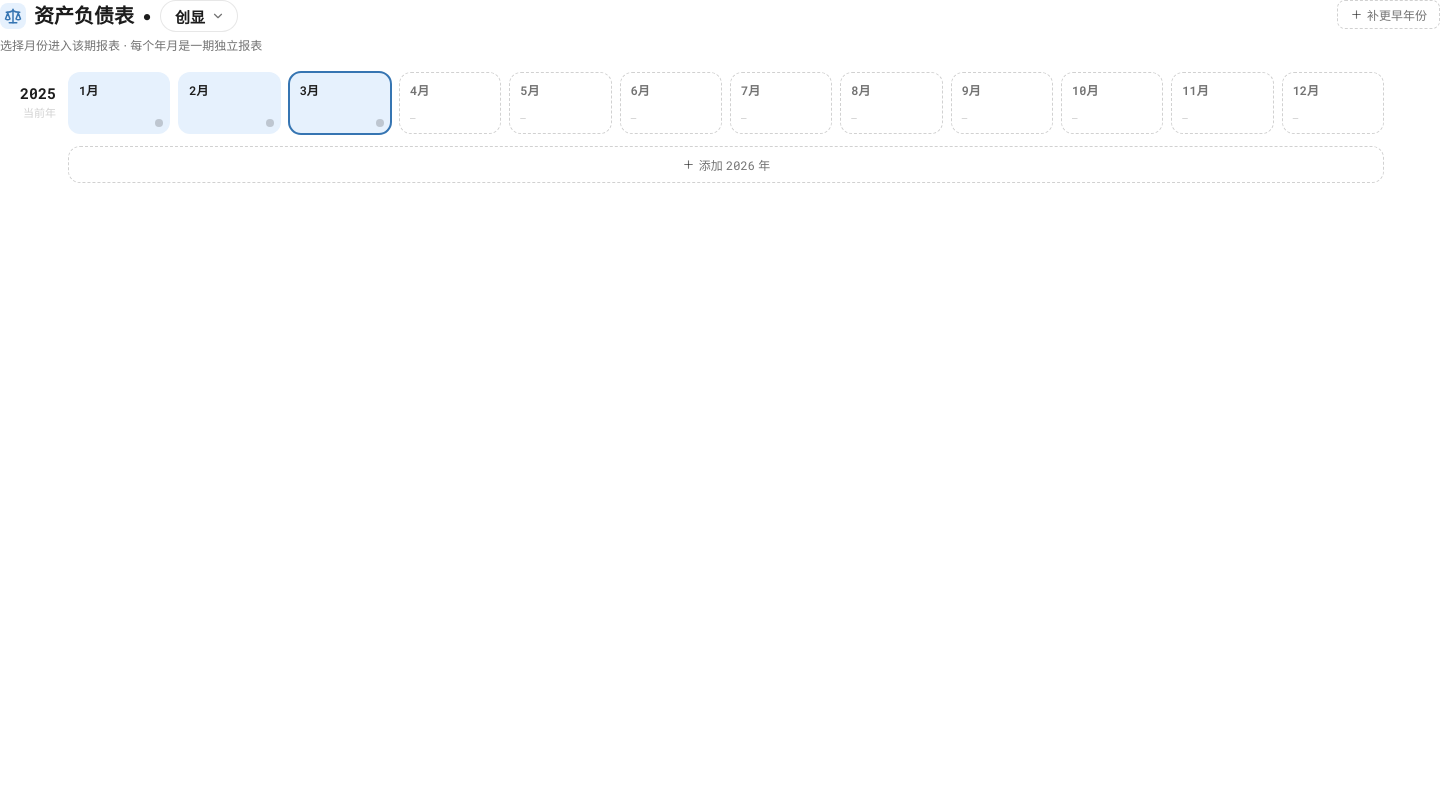
Scenario: 资产负债表 · 期间条 / 公司下拉 / 撤掉的东西 › ❗全部汇总:标题旁「3 家合计 · 只读」,按钮只剩「导出 Excel」,步骤条只剩三大报表三步
Click the button with class "bmm-card" showing "1月": (119, 103) [68,72,170,134]
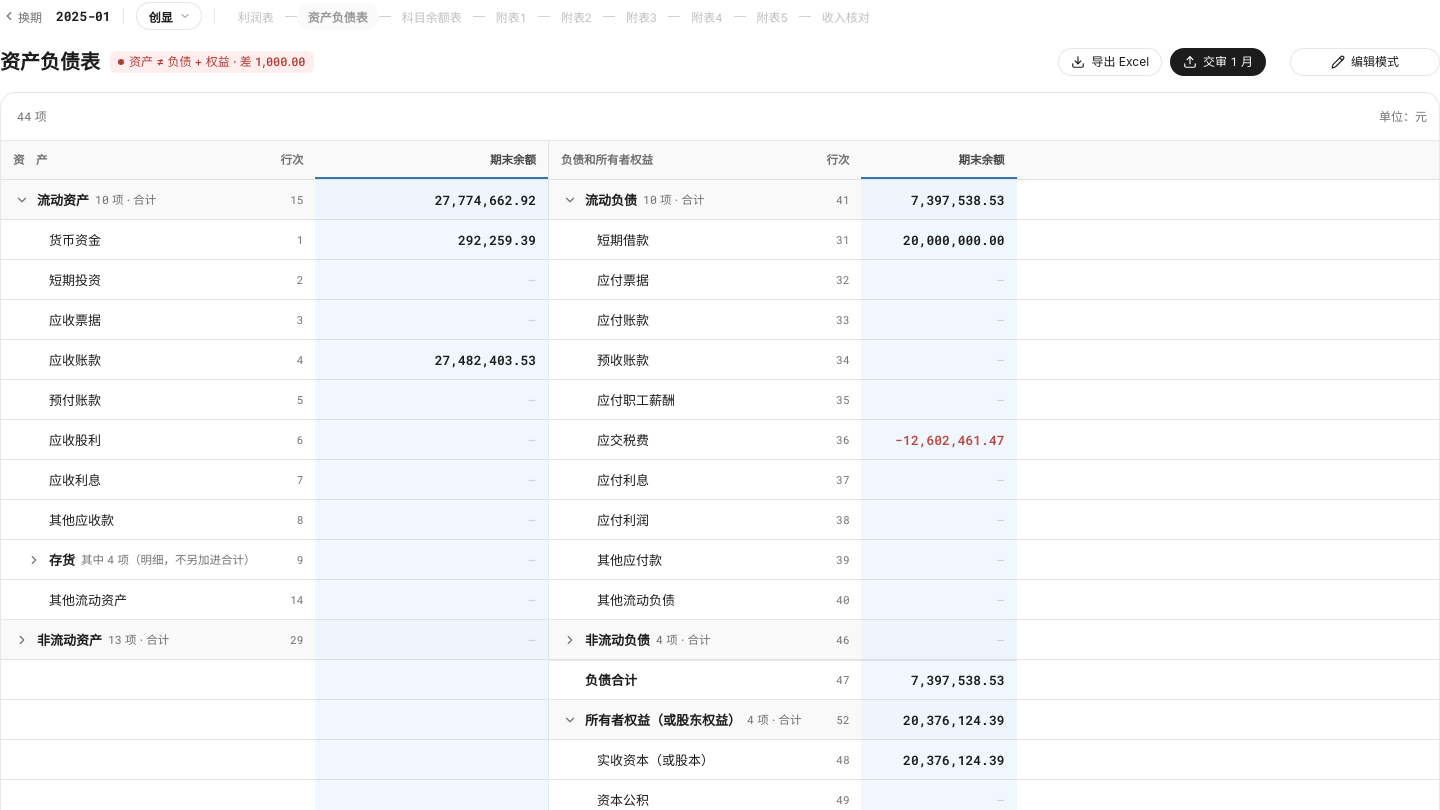
Click the button with class "fcm-btn": (169, 16) [136,2,202,30]
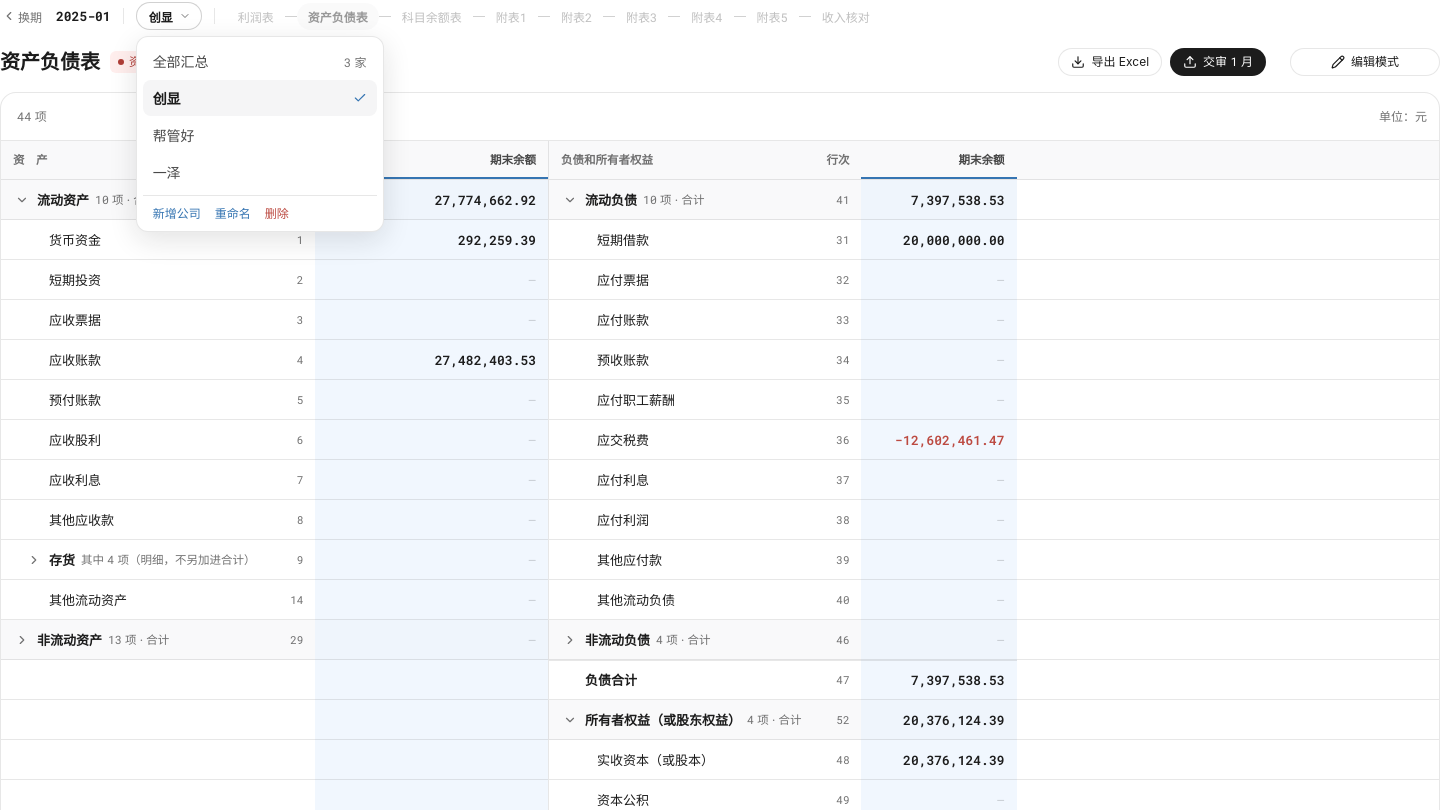
Click the menu item with class "fcm-it" showing "全部汇总 3 家": (260, 61) [143,43,377,79]
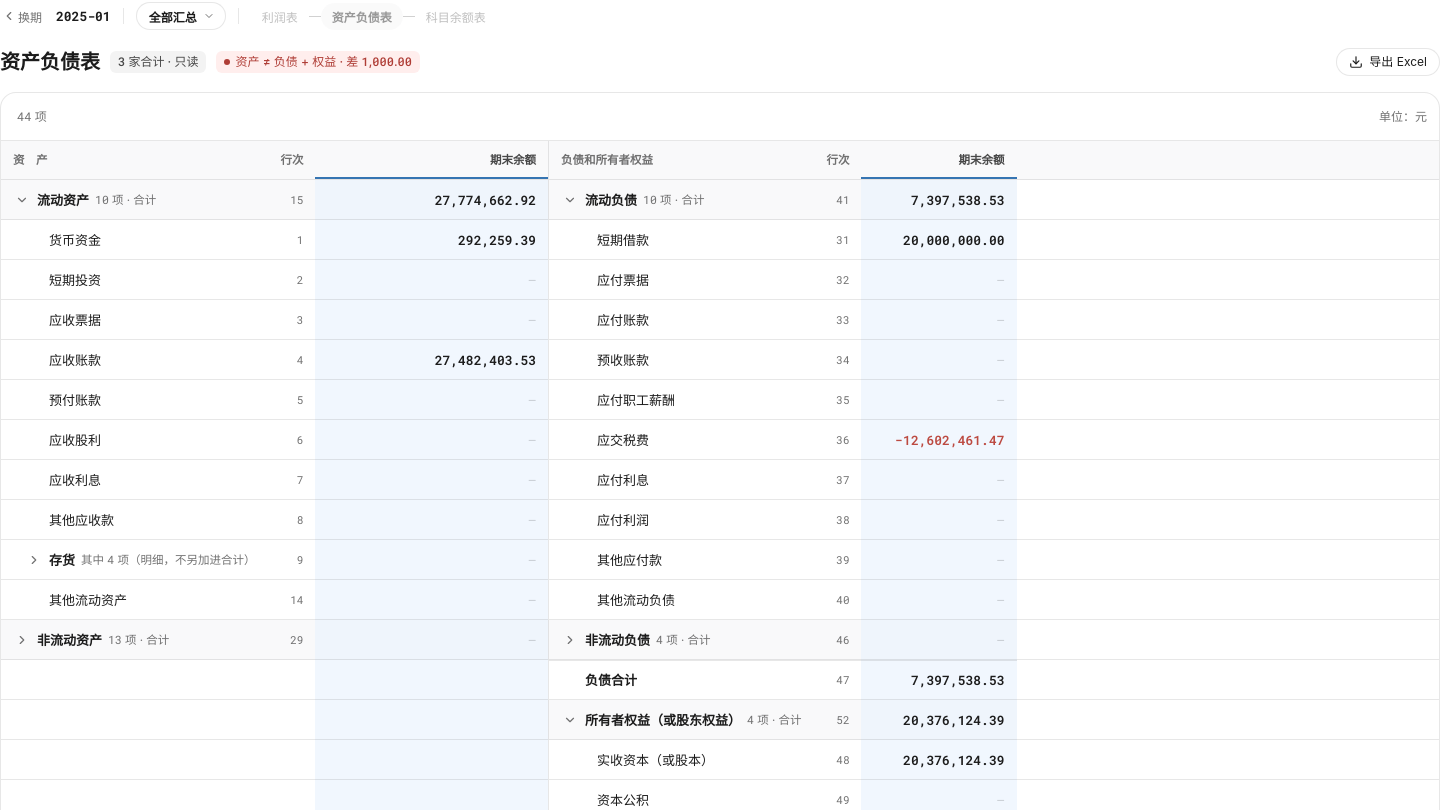
expect the text with class "fp-state" reads "3 家合计 · 只读": met, box [118,54,198,69]
expect the elements with class "fss-step" read "利润表", "资产负债表", "科目余额表", in this order: met, box [251,2,309,30]; [321,2,403,30]; [415,2,497,30]
